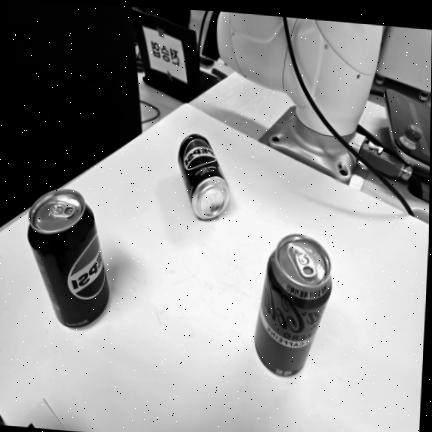can_coke_decaf: (254, 234, 332, 375)
can_pepsi: (27, 189, 110, 327)
can_pepsi_zero: (177, 133, 230, 218)
